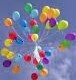Balloon: (57, 20, 68, 30), (9, 31, 18, 41), (32, 25, 41, 34), (12, 11, 20, 20), (1, 48, 9, 57), (14, 53, 22, 62), (65, 33, 76, 39), (4, 18, 12, 26), (30, 72, 38, 80), (40, 68, 48, 76), (31, 9, 38, 18), (40, 12, 47, 21), (3, 60, 12, 67), (25, 3, 32, 11), (31, 33, 38, 41), (20, 19, 27, 27), (24, 54, 31, 62), (39, 50, 45, 57), (46, 50, 52, 57)
